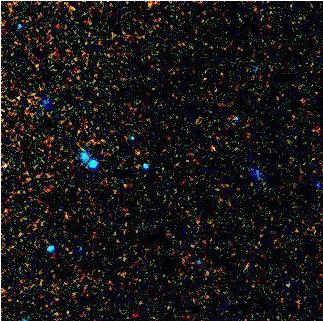star: (199, 131, 229, 161)
